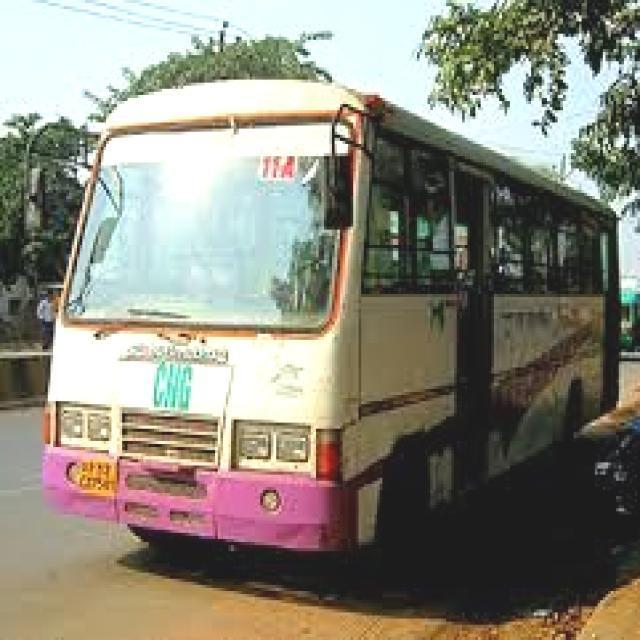Bus: (37, 68, 640, 562)
